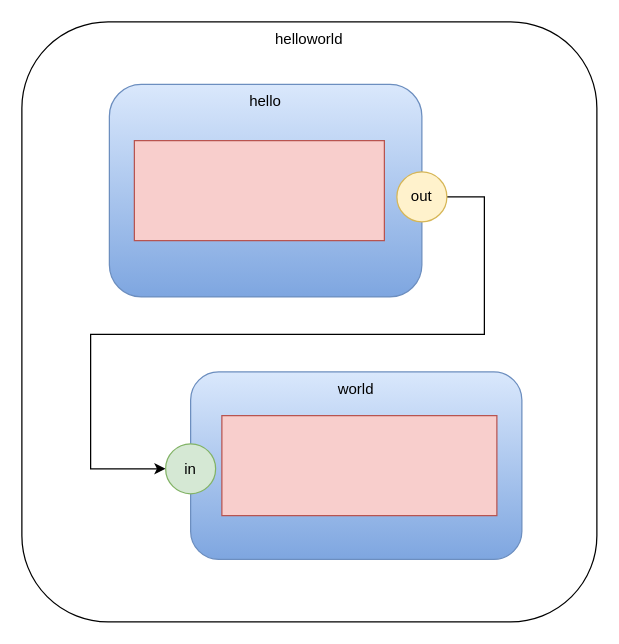
The diagram is 619 pixels wide and 644 high, and some of its shapes have lost their labels. The centre of each missing label's shape, as x and y in pixels:
(format *standard-output* "hello~%") (send self out t): the point at 258,190
(format *standard-output* "world~%"): the point at 359,465
